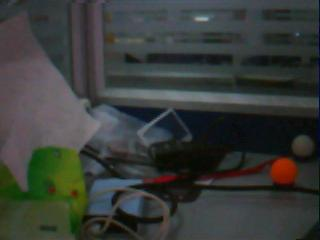oball: (270, 158, 297, 184)
